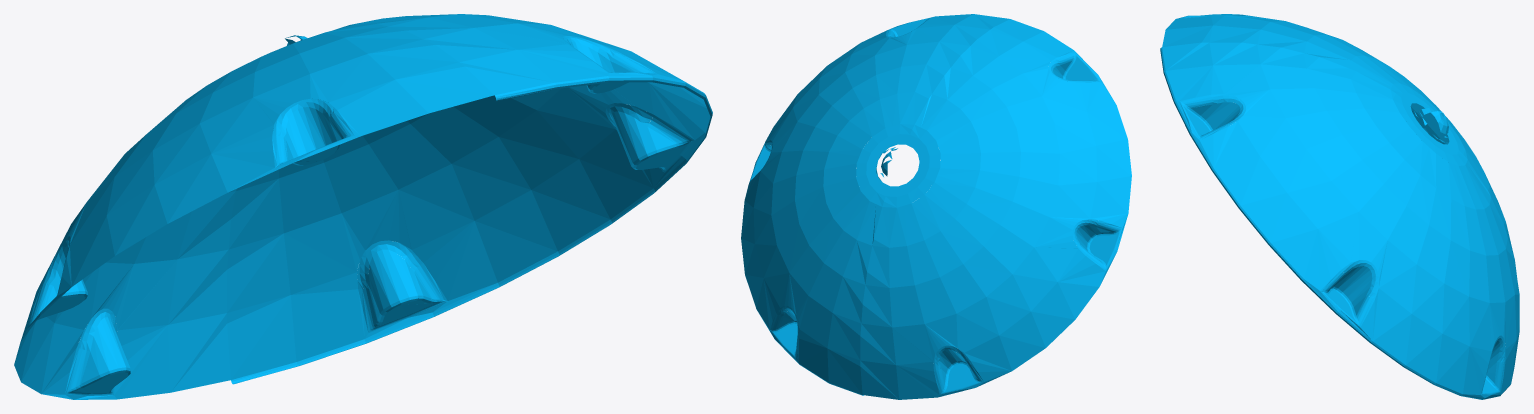
3 renders of one model, left to right at view 1: azimuth 30°, elevation 25°; view 2: azimuth 150°, elevation 25°; view 3: azimuth 270°, elevation 25°, orthographic. The views are drawn at different scales.
Visible parts, largest first — view 1: HC10.001; view 2: HC10.001; view 3: HC10.001.
Part boxes in pixels (<box>): HC10.001: <box>14,14,712,399</box>; HC10.001: <box>741,14,1131,399</box>; HC10.001: <box>1160,14,1519,399</box>.
Bounding box in the file's own units: 19.99 × 14.41 × 14.41.
